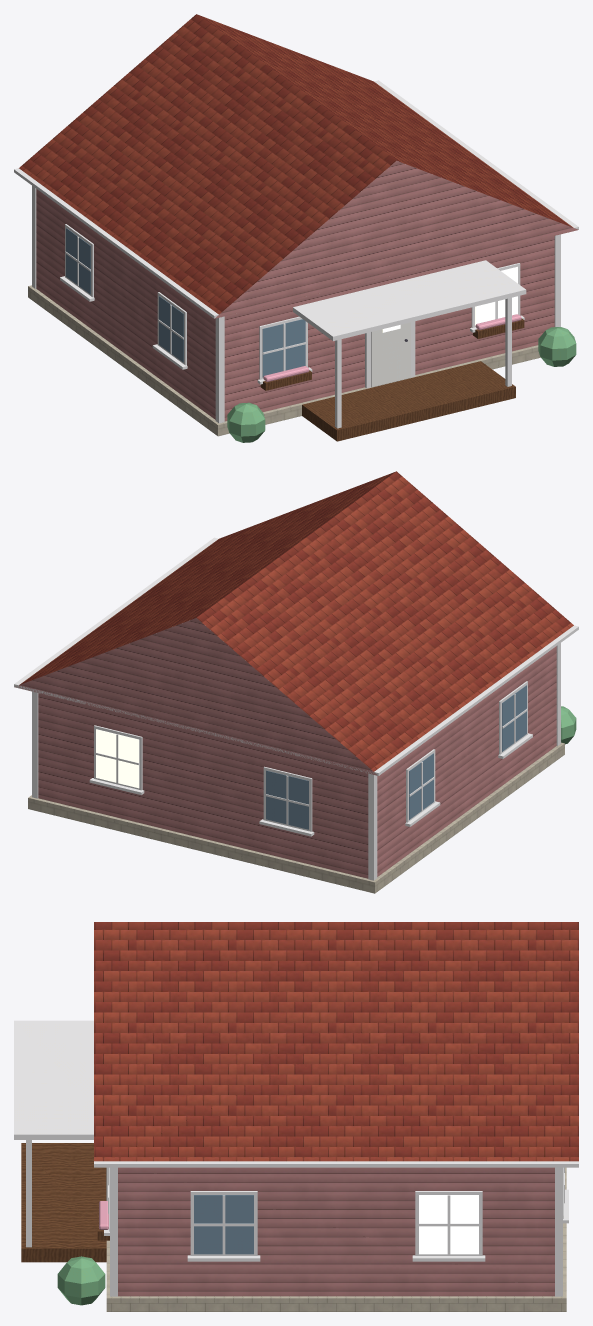
File: exterior.glb
The picture shows the model from 3 angles, top to bottom: view 1: azimuth 30°, elevation 25°; view 2: azimuth 150°, elevation 25°; view 3: azimuth 270°, elevation 25°; orthographic projection. The views are drawn at different scales.
Parts seen in each view (by area): view 1: House_house_06; view 2: House_house_06; view 3: House_house_06.
Boxes of the visible parts, left/top/right/bottom form: House_house_06: left=14, top=14, right=578, bottom=442; House_house_06: left=14, top=471, right=578, bottom=893; House_house_06: left=14, top=922, right=578, bottom=1311.
Size of the model in its own units: 10.2 by 6.39 by 11.3.
Materials: 7 (7 with a texture image).
